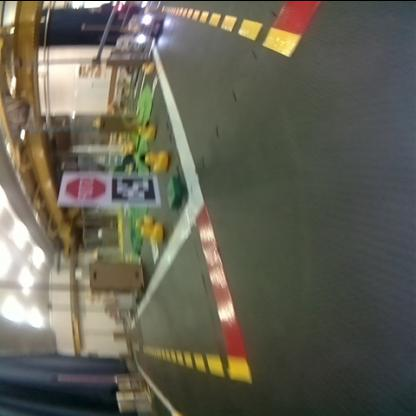Duckie: (146, 148, 166, 171), (140, 224, 162, 240), (138, 124, 156, 136), (136, 213, 152, 225), (141, 61, 153, 72)
Duckiebot: (127, 12, 162, 40)
QR code: (112, 174, 156, 202)
Stop sign: (61, 171, 110, 203)
